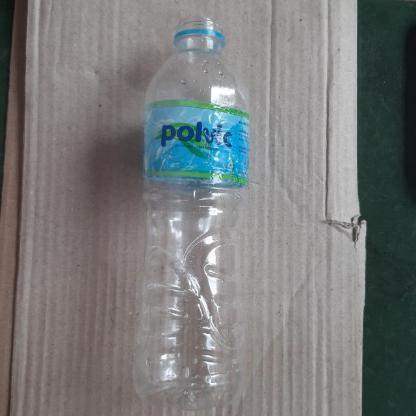Plastic Bottle: (134, 19, 250, 409)
